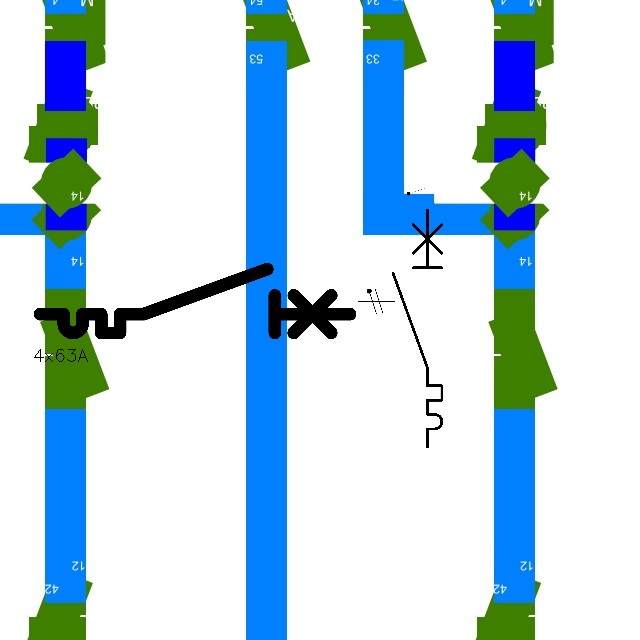interruptor_termomagnetico: (32, 261, 358, 341), (387, 204, 448, 453)
